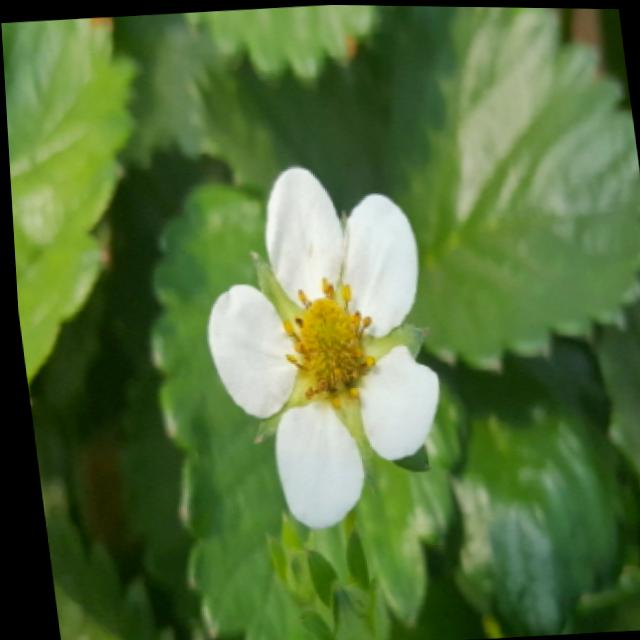Blossom Blight: (270, 269, 379, 409)
